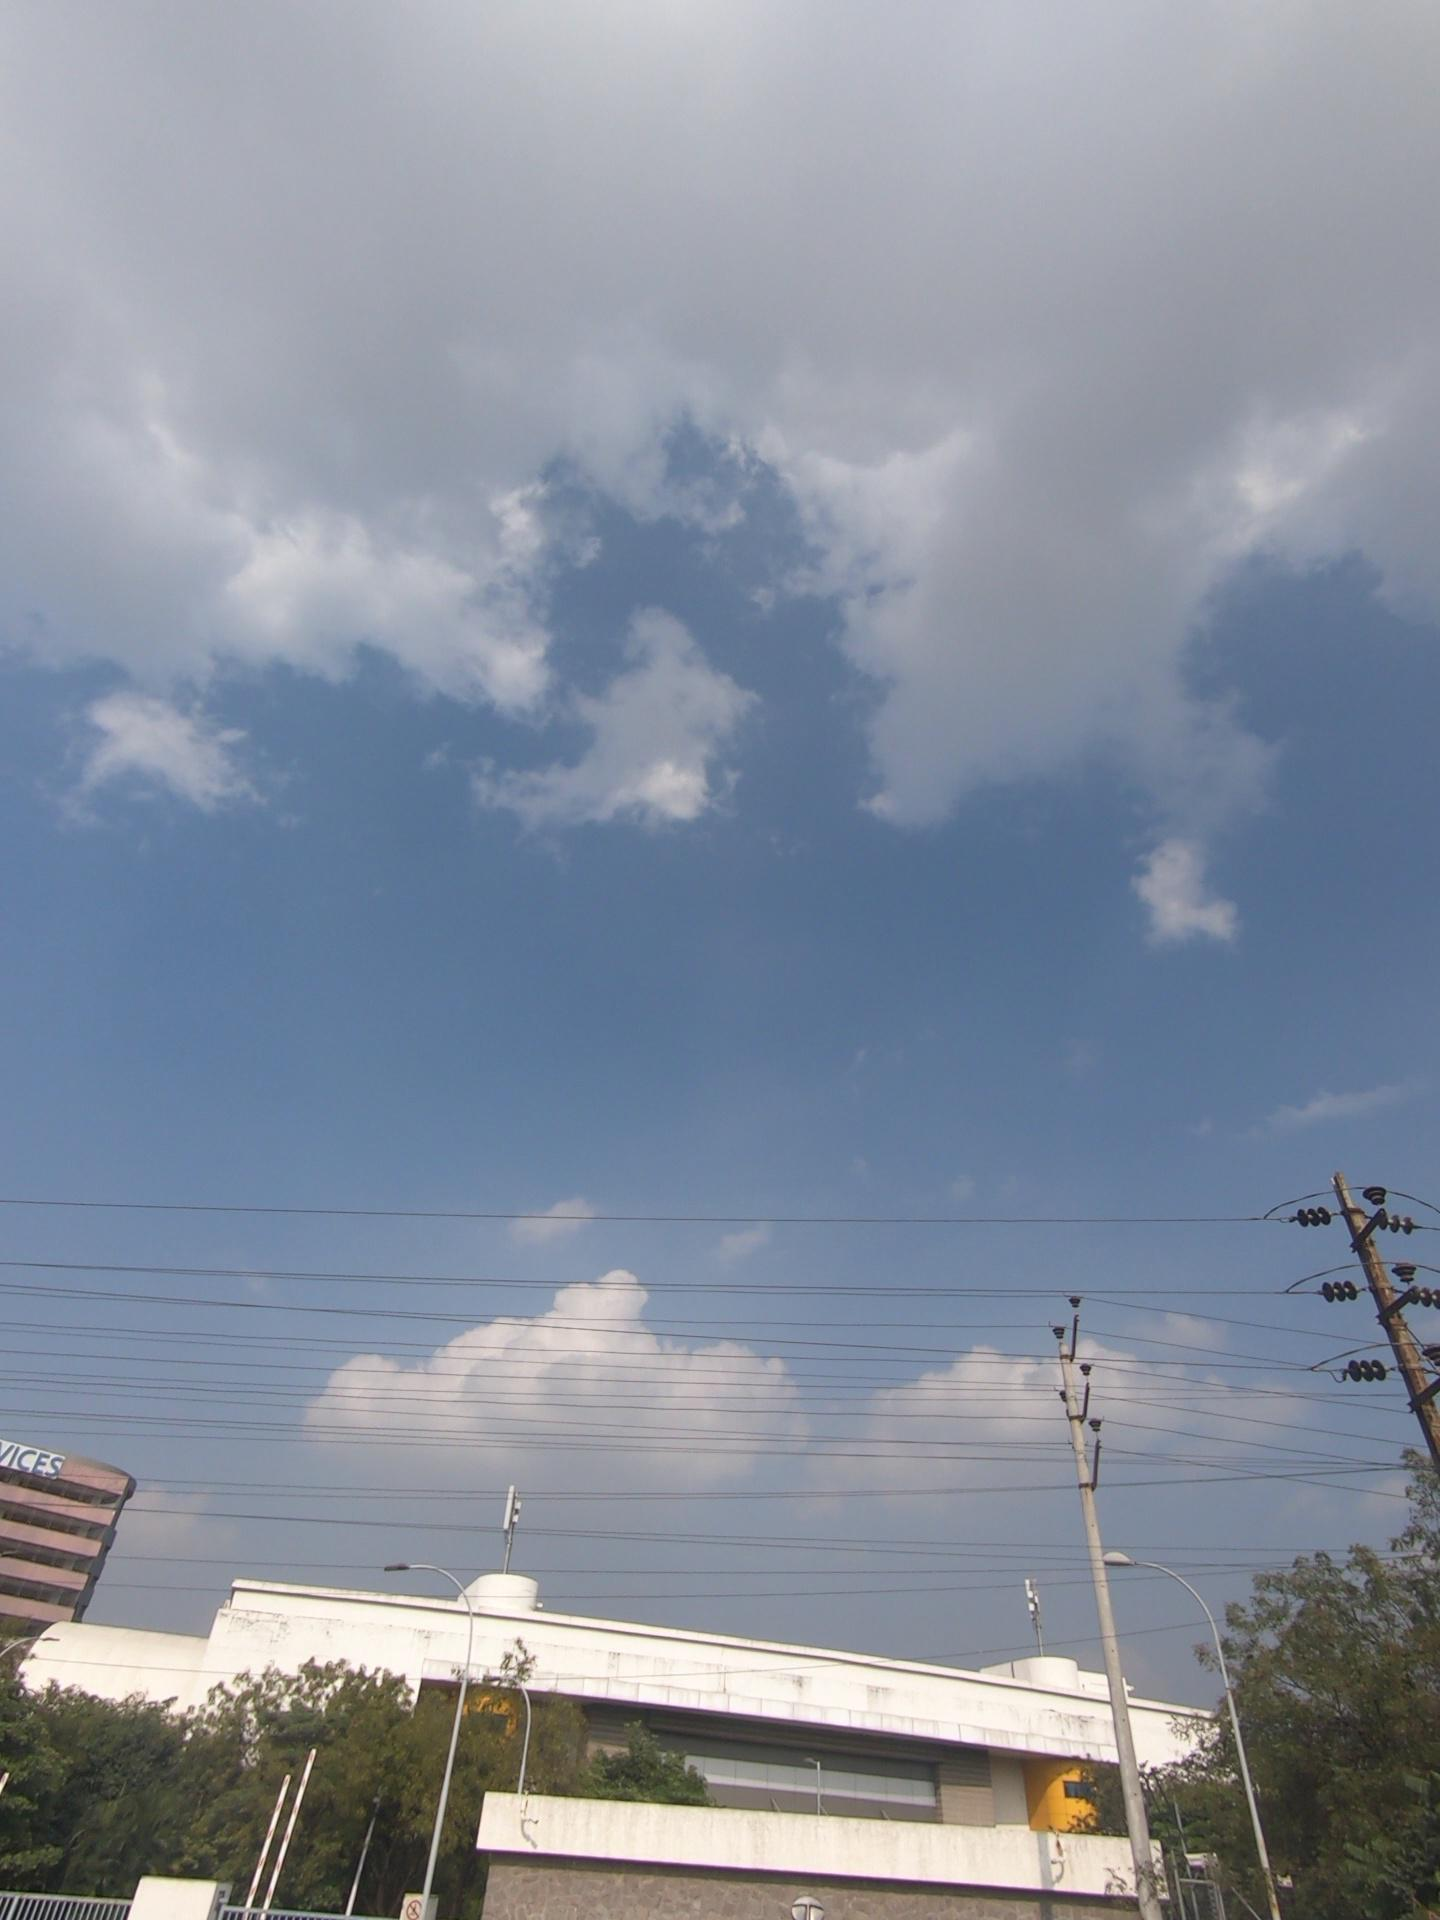off: (219, 1612, 552, 1920)
